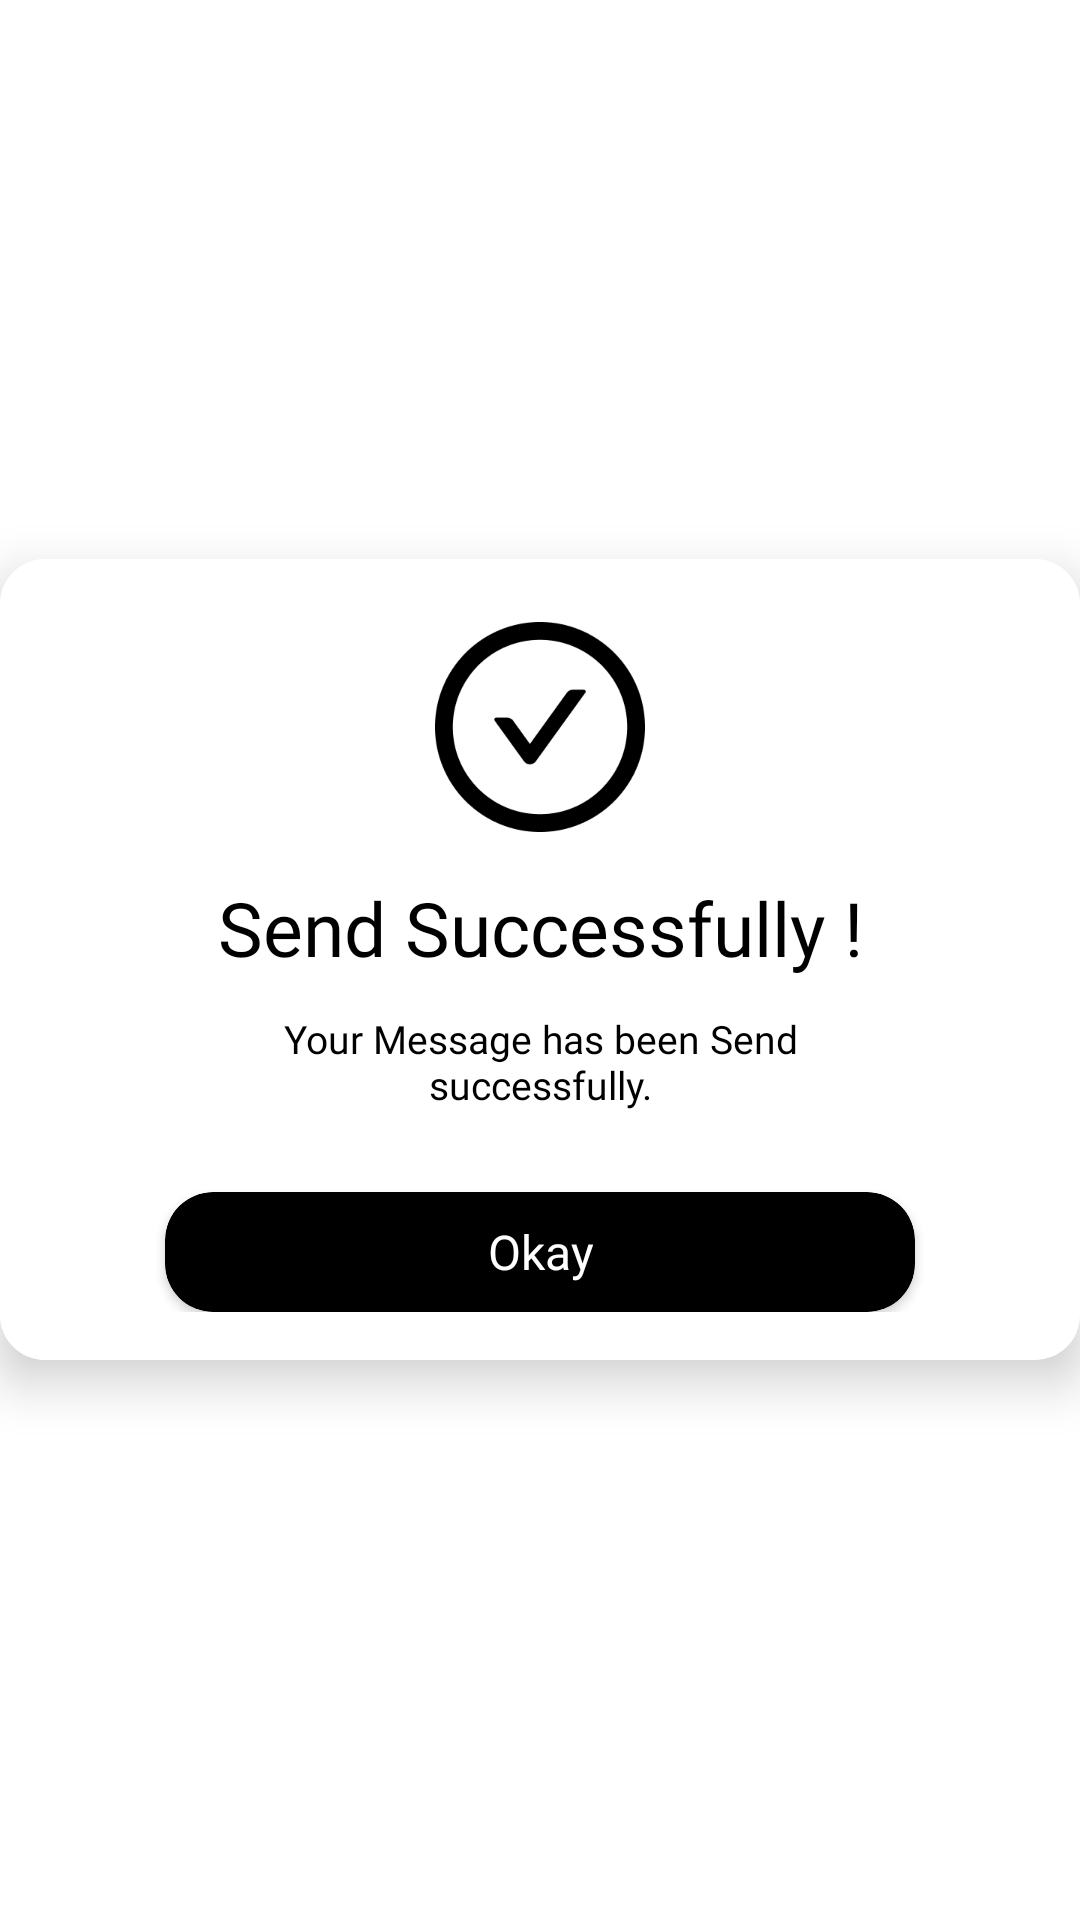

Icon bounding boxes for this 1080w x 1920h phone screenshot, format (x1, y1, x2, y2):
payment check: (435, 622, 645, 832)
